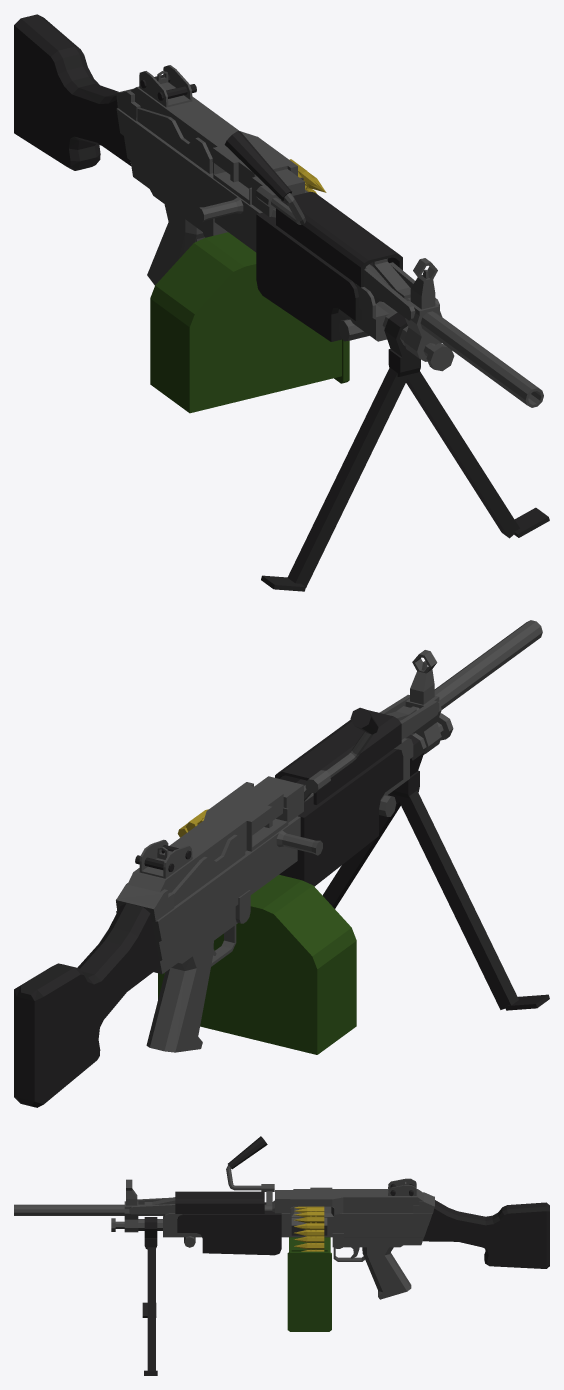
3 views of the same model, one above another, from view 1: azimuth 30°, elevation 25°; view 2: azimuth 150°, elevation 25°; view 3: azimuth 270°, elevation 25° (orthographic). The views are drawn at different scales.
Parts seen in each view (by area): view 1: SM_M249_001; view 2: SM_M249_001; view 3: SM_M249_001.
Part boxes in pixels (x1,y1,x2,y2): SM_M249_001: (14, 14, 549, 591); SM_M249_001: (14, 620, 549, 1107); SM_M249_001: (14, 1136, 549, 1375).
Bounding box in the file's own units: 0.3404 × 0.4309 × 1.08.
Materials: 1 (1 with a texture image).
